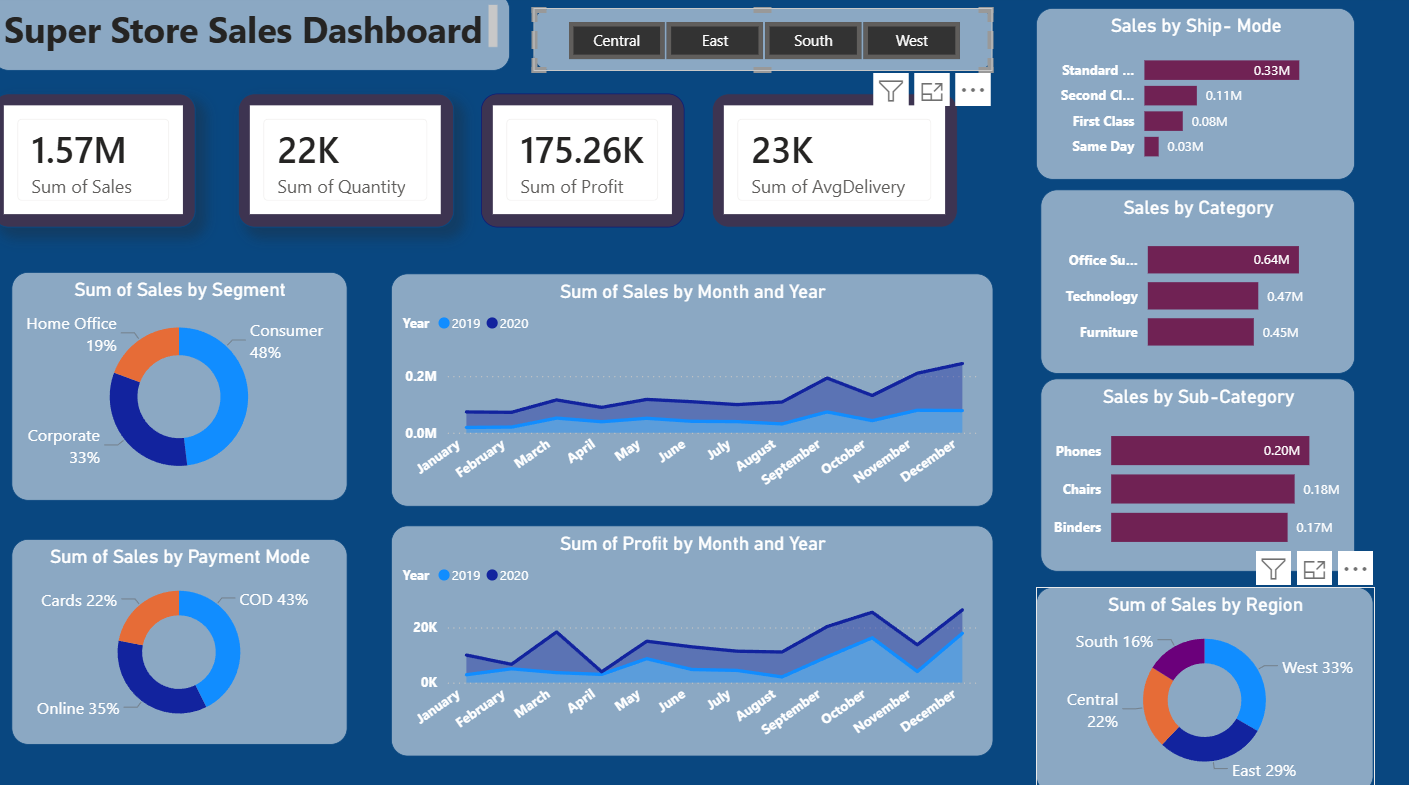

The page's visual inventory and layout, read from the dashboard file:
{"tool":"powerbi","page":{"name":"Page 1","canvas":[1280,720],"ordinal":0},"visuals":[{"type":"clusteredBarChart","title":"Sales by Category","fields":{"Category":["SuperStore_Sales_Dataset.Category"],"Y":["Sum(SuperStore_Sales_Dataset.Sales)"]},"box":[944.9,177.6,283.5,166.3],"z":0},{"type":"clusteredBarChart","title":"Sales by  Sub-Category","fields":{"Category":["SuperStore_Sales_Dataset.Sub-Category"],"Y":["Sum(SuperStore_Sales_Dataset.Sales)"]},"box":[944.9,347.7,283.5,173.9],"z":1000},{"type":"clusteredBarChart","title":"Sales by Ship- Mode","fields":{"Y":["Sum(SuperStore_Sales_Dataset.Sales)"],"Category":["SuperStore_Sales_Dataset.Ship Mode"]},"box":[941.1,13.2,287.2,155],"z":2000},{"type":"stackedAreaChart","fields":{"Y":["Sum(SuperStore_Sales_Dataset.Sales)"],"Series":["SuperStore_Sales_Dataset.Order Date.Variation.Date Hierarchy.Year"],"Category":["SuperStore_Sales_Dataset.Order Date.Variation.Date Hierarchy.Month","SuperStore_Sales_Dataset.Order Date.Variation.Date Hierarchy.Day"]},"box":[359.1,253.2,542.4,209.8],"z":3000},{"type":"stackedAreaChart","fields":{"Series":["SuperStore_Sales_Dataset.Order Date.Variation.Date Hierarchy.Year"],"Category":["SuperStore_Sales_Dataset.Order Date.Variation.Date Hierarchy.Month","SuperStore_Sales_Dataset.Order Date.Variation.Date Hierarchy.Day"],"Y":["Sum(SuperStore_Sales_Dataset.Profit)"]},"box":[359.1,480,542.4,207.9],"z":4000},{"type":"donutChart","fields":{"Category":["SuperStore_Sales_Dataset.Segment"],"Y":["Sum(SuperStore_Sales_Dataset.Sales)"]},"box":[17,251.3,302.4,206],"z":5000},{"type":"donutChart","fields":{"Y":["Sum(SuperStore_Sales_Dataset.Sales)"],"Category":["SuperStore_Sales_Dataset.Region"]},"box":[941.1,534.8,304.3,185.2],"z":6000},{"type":"donutChart","fields":{"Y":["Sum(SuperStore_Sales_Dataset.Sales)"],"Category":["SuperStore_Sales_Dataset.Payment Mode"]},"box":[17,491.3,302.4,185.2],"z":7000},{"type":"slicer","fields":{"Values":["SuperStore_Sales_Dataset.Region"]},"box":[487.6,13.2,413.9,56.7],"z":8000},{"type":"textbox","box":[0,0,466.8,69.9],"z":8001},{"type":"cardVisual","fields":{"Data":["Sum(SuperStore_Sales_Dataset.Sales)"]},"box":[0,90.7,183.3,120.9],"z":8002},{"type":"cardVisual","fields":{"Data":["Sum(SuperStore_Sales_Dataset.Quantity)"]},"box":[221.1,90.7,194.6,120.9],"z":8003},{"type":"cardVisual","fields":{"Data":["Sum(SuperStore_Sales_Dataset.Profit)"]},"box":[440.3,90.7,183.3,120.9],"z":8004},{"type":"cardVisual","fields":{"Data":["Sum(SuperStore_Sales_Dataset.AvgDelivery)"]},"box":[648.2,90.7,221.1,120.9],"z":8005}]}

Visuals, with their boxes in screenshot pixels (x1, y1, x2, y2), scaled from the page's 1280x720 canvas onto the 1409x785 screenshot:
"Sales by Category" clusteredBarChart: 1040,194,1352,375
"Sales by  Sub-Category" clusteredBarChart: 1040,379,1352,569
"Sales by Ship- Mode" clusteredBarChart: 1036,14,1352,183
stackedAreaChart - Sum(SuperStore_Sales_Dataset.Sales) x SuperStore_Sales_Dataset.Order Date.Variation.Date Hierarchy.Year: 395,276,992,505
stackedAreaChart - SuperStore_Sales_Dataset.Order Date.Variation.Date Hierarchy.Year x SuperStore_Sales_Dataset.Order Date.Variation.Date Hierarchy.Month: 395,523,992,750
donutChart - SuperStore_Sales_Dataset.Segment x Sum(SuperStore_Sales_Dataset.Sales): 19,274,352,499
donutChart - Sum(SuperStore_Sales_Dataset.Sales) x SuperStore_Sales_Dataset.Region: 1036,583,1371,784
donutChart - Sum(SuperStore_Sales_Dataset.Sales) x SuperStore_Sales_Dataset.Payment Mode: 19,536,352,738
slicer - SuperStore_Sales_Dataset.Region: 537,14,992,76
textbox: 0,0,514,76
cardVisual - Sum(SuperStore_Sales_Dataset.Sales): 0,99,202,231
cardVisual - Sum(SuperStore_Sales_Dataset.Quantity): 243,99,458,231
cardVisual - Sum(SuperStore_Sales_Dataset.Profit): 485,99,686,231
cardVisual - Sum(SuperStore_Sales_Dataset.AvgDelivery): 714,99,957,231
